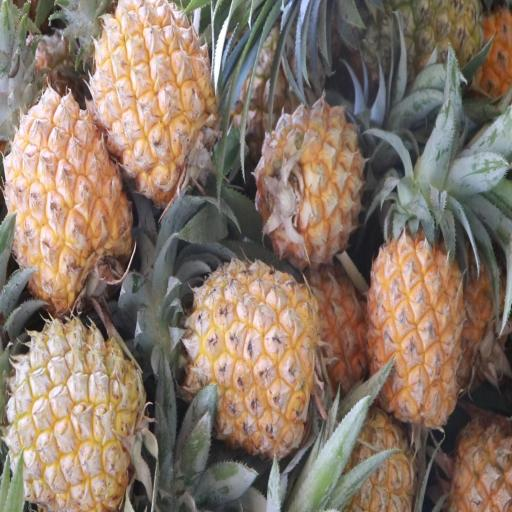Pineapple - v8 v1: (4, 91, 130, 308), (8, 321, 142, 512), (93, 2, 220, 196), (187, 262, 317, 450), (364, 231, 462, 432), (259, 100, 365, 263)
